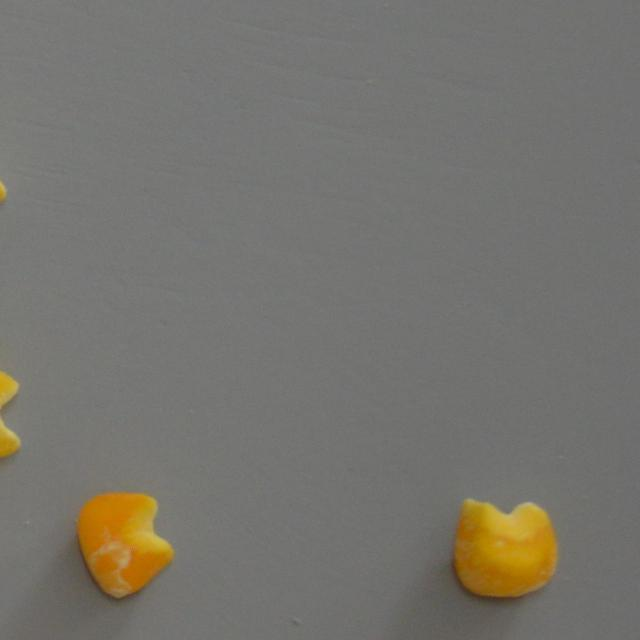no_canjicado: (452, 498, 558, 598)
pelicula: (72, 490, 178, 600), (0, 355, 20, 464)
